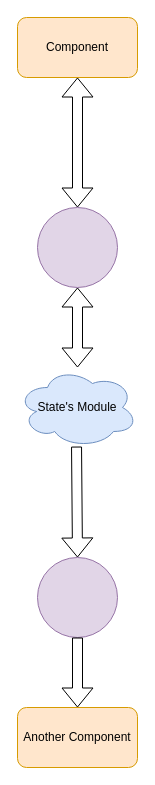
The diagram is 155 pixels wide and 785 high, and some of its shapes have lost their labels. The box of each missing label's shape, as (x1, y1, x2, y2) in pixels:
Get new value of state with Getters: (36, 556, 118, 638)
Some action dispatched: (36, 206, 118, 288)
